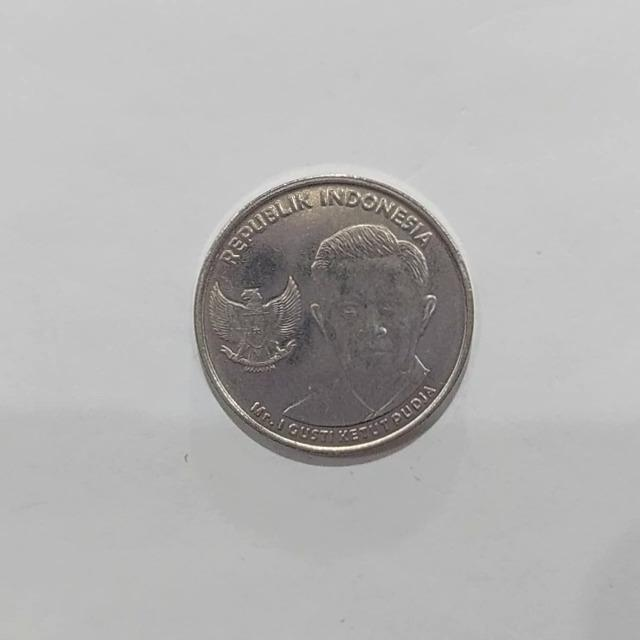Rp100: (192, 171, 475, 465)
